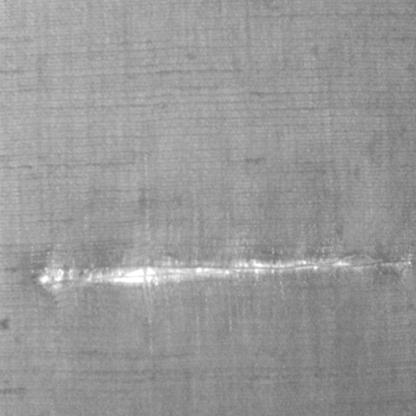hole: (34, 240, 416, 302)
